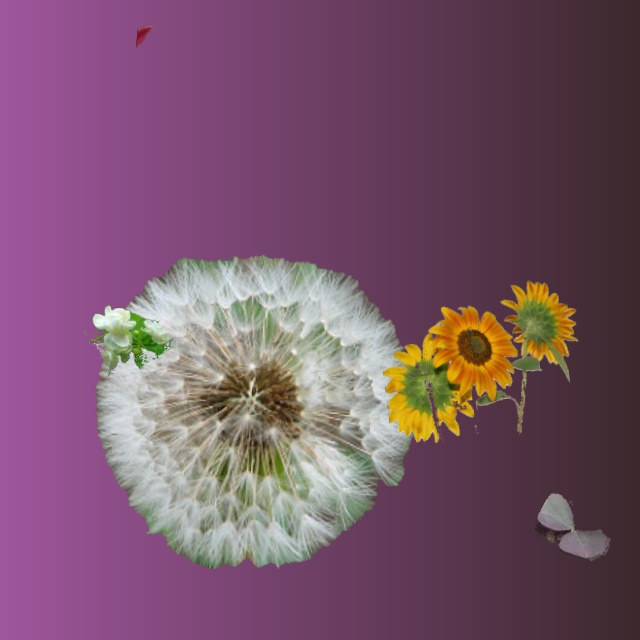butterfly flower: (535, 493, 609, 560)
cape flower: (136, 25, 153, 47)
dandelion: (96, 255, 413, 568)
sunflower: (383, 281, 577, 442)
ylang-ylang: (85, 305, 171, 375)
